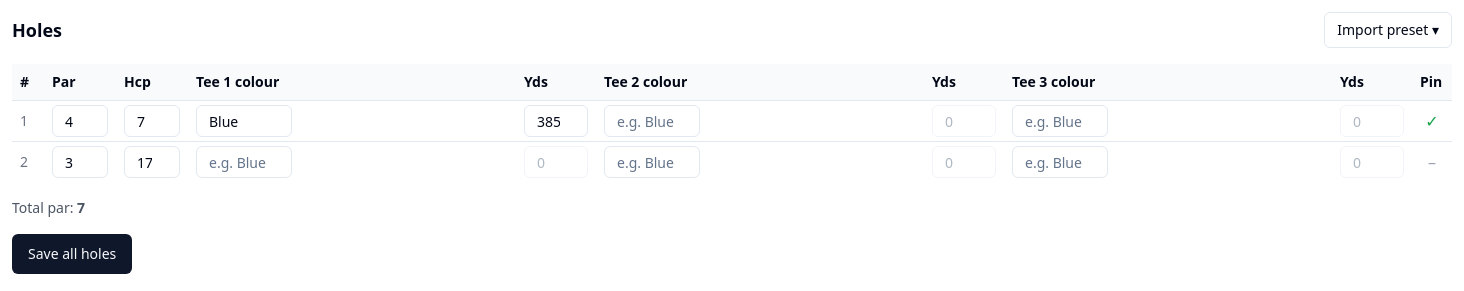
Test: HoleEditor › shows preset options on Import preset click
Click the button "Import preset ▾" at (1388, 30), box [1324,12,1452,48]
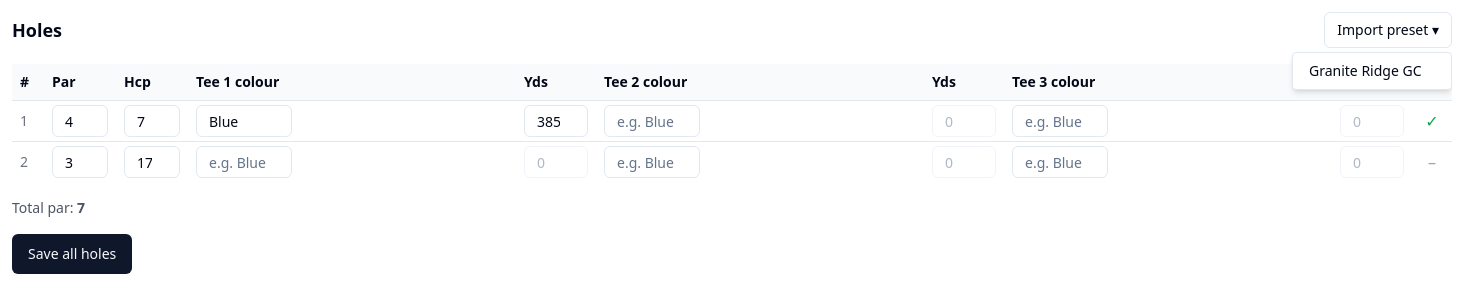
Result: the button "Granite Ridge GC" is shown at [1293,53,1451,89]
